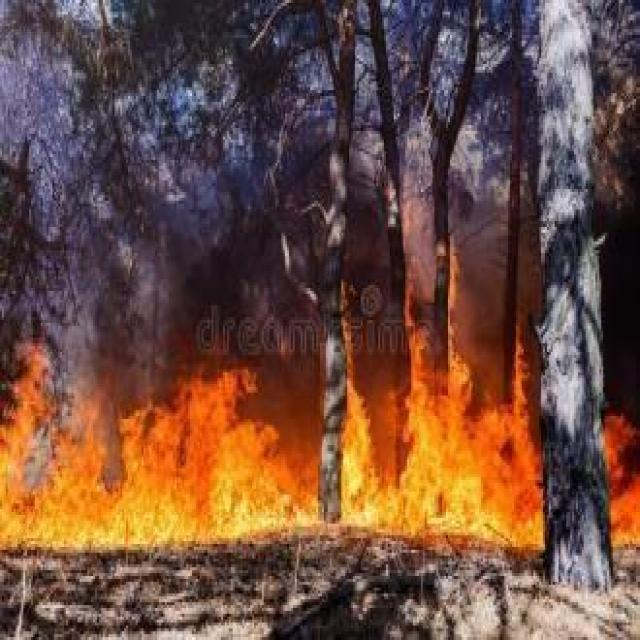fire: (0, 326, 318, 541), (342, 317, 545, 551), (603, 400, 636, 547)
smoke: (191, 204, 401, 320)
